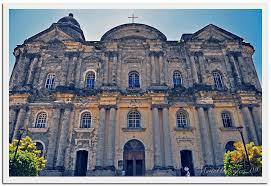taal_basilica_church_taal_batangas: (10, 10, 261, 175)
